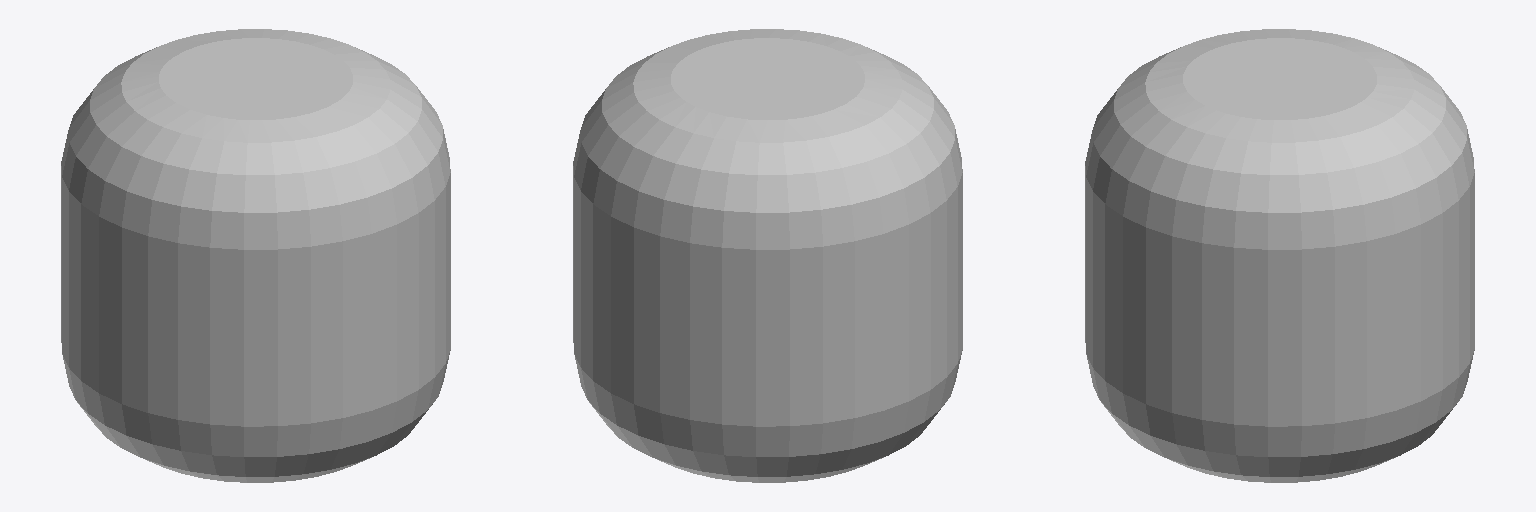
Rendered from Head.obj.
3 views of the same model, side by side, from view 1: azimuth 30°, elevation 25°; view 2: azimuth 150°, elevation 25°; view 3: azimuth 270°, elevation 25° (orthographic).
Visible parts, largest first — view 1: 6; view 2: 6; view 3: 6.
Part boxes in pixels (x1,y1,x2,y2): 6: (61,29,450,482); 6: (573,29,962,482); 6: (1085,29,1474,482).
Bounding box in the file's own units: 1.2 × 1.2 × 1.2.